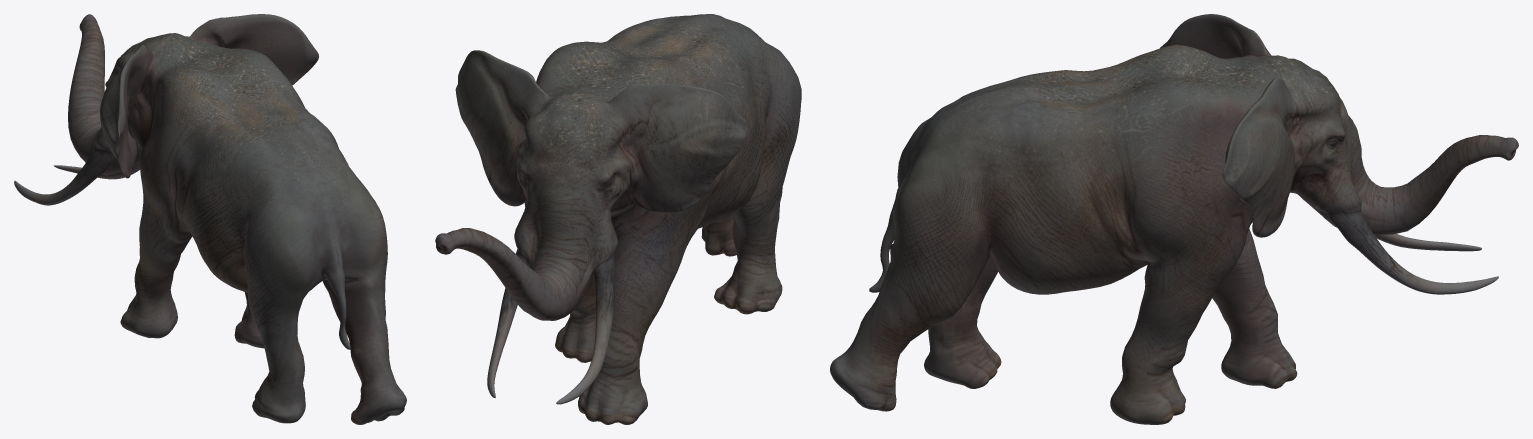
Rendered from gajah bang.fbx.
3 renders of one model, left to right at view 1: azimuth 30°, elevation 25°; view 2: azimuth 150°, elevation 25°; view 3: azimuth 270°, elevation 25°, orthographic. The views are drawn at different scales.
Visible parts, largest first — view 1: mesh0.dat.desirefx.me_.001; view 2: mesh0.dat.desirefx.me_.001; view 3: mesh0.dat.desirefx.me_.001.
Boxes of the visible parts, bbox=[...] form: mesh0.dat.desirefx.me_.001: bbox=[14, 14, 406, 424]; mesh0.dat.desirefx.me_.001: bbox=[435, 14, 801, 424]; mesh0.dat.desirefx.me_.001: bbox=[830, 14, 1518, 424].
Bounding box in the file's own units: 381 × 460 × 838.
